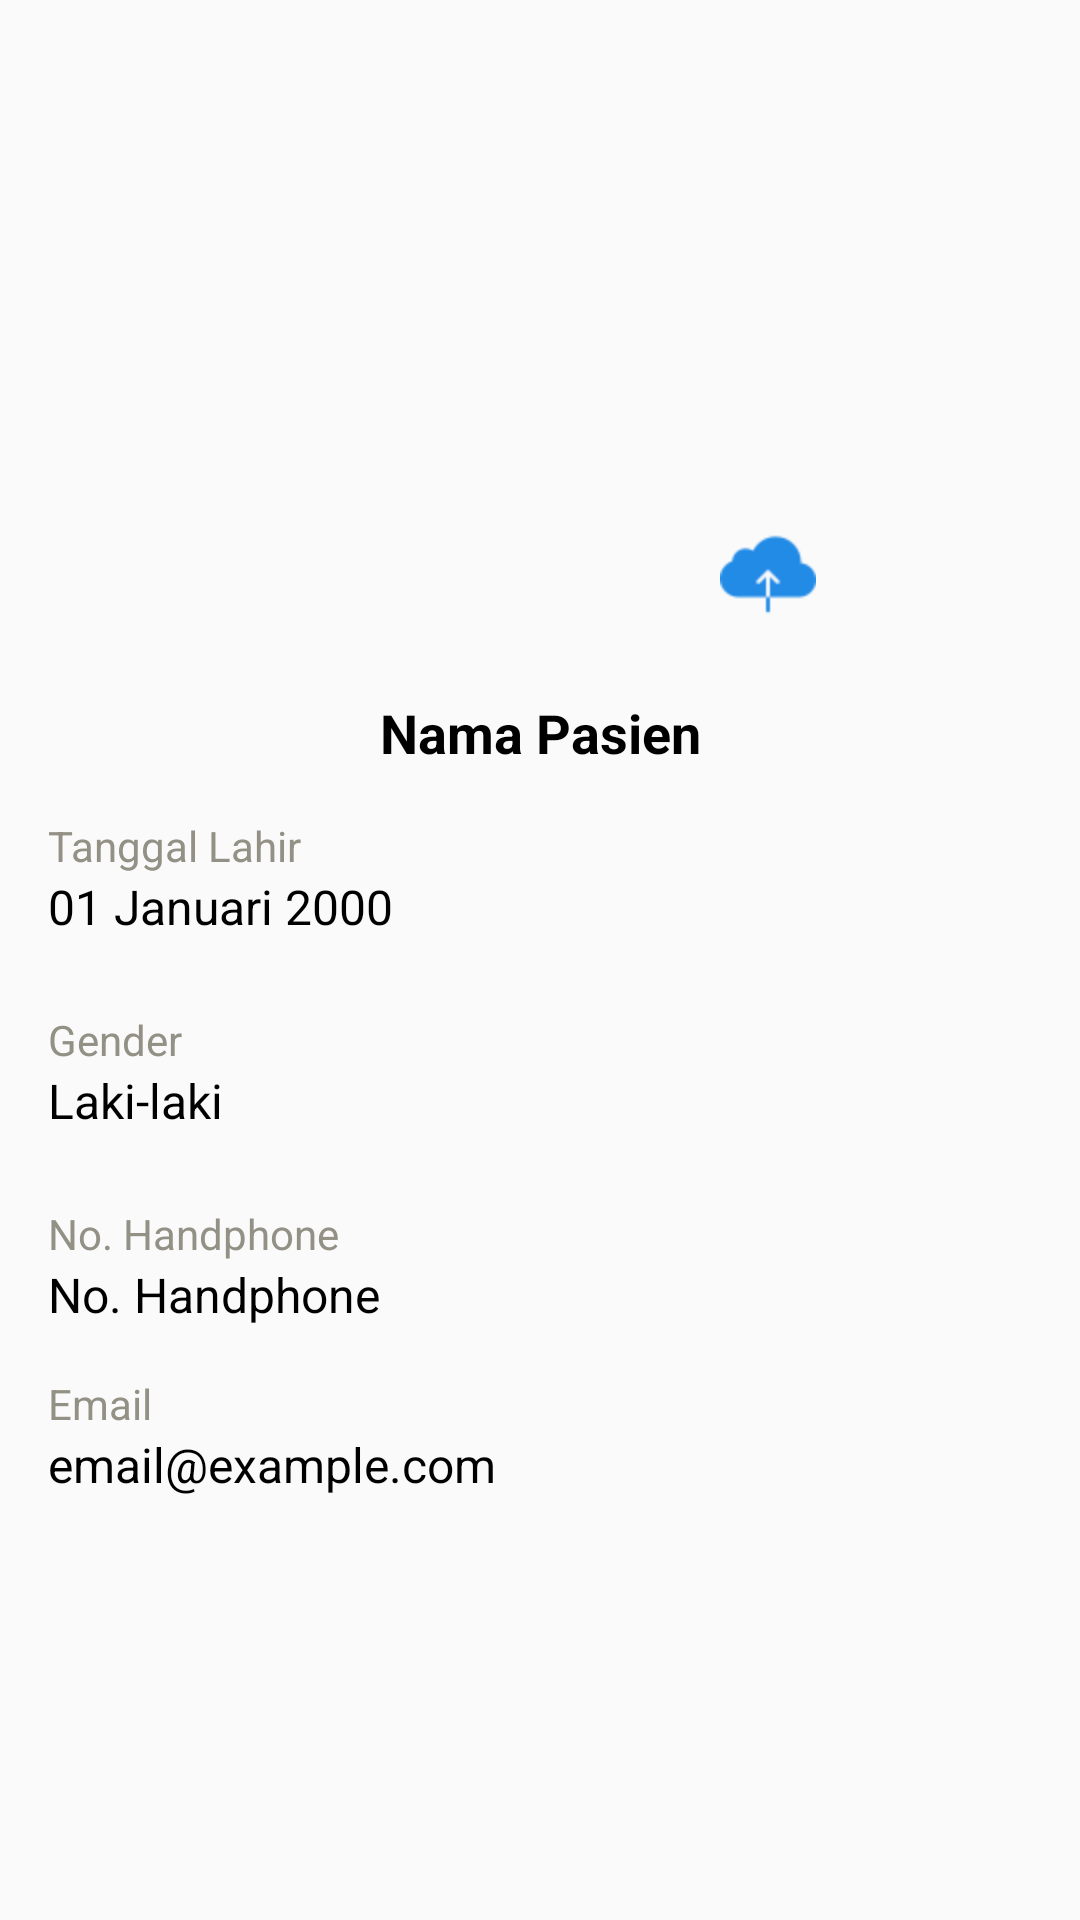

Icon bounding boxes for this 1080 x 1920 phone screenshot, format [x1,y1,x2,y2]:
upload: [720,535,816,613]
